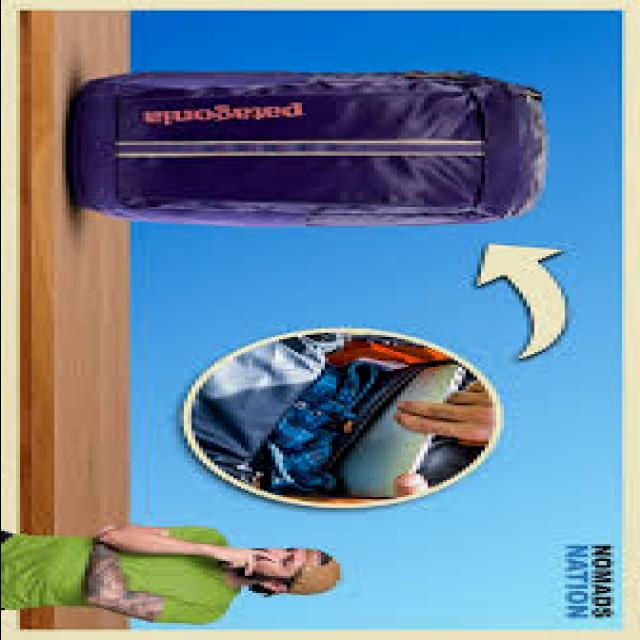backpack: (70, 69, 550, 227)
